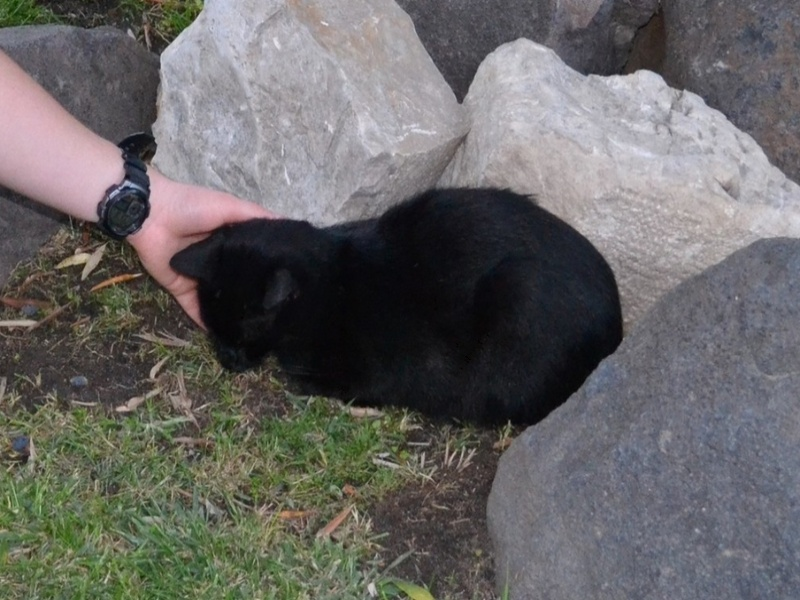cat: (168, 183, 633, 430)
